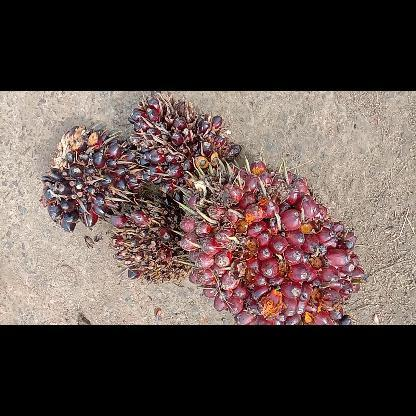TBS abnormal: (127, 91, 240, 204), (42, 125, 146, 229), (111, 193, 189, 280)
TBS masak: (180, 158, 364, 324)
